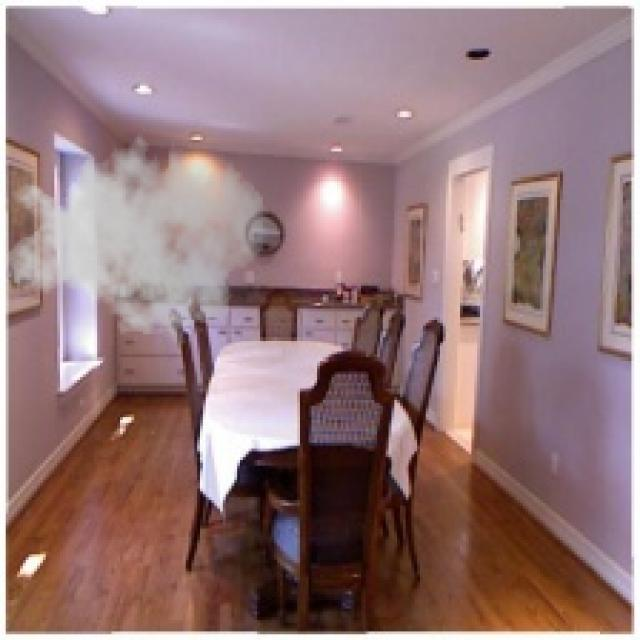smoke: (3, 123, 268, 348)
